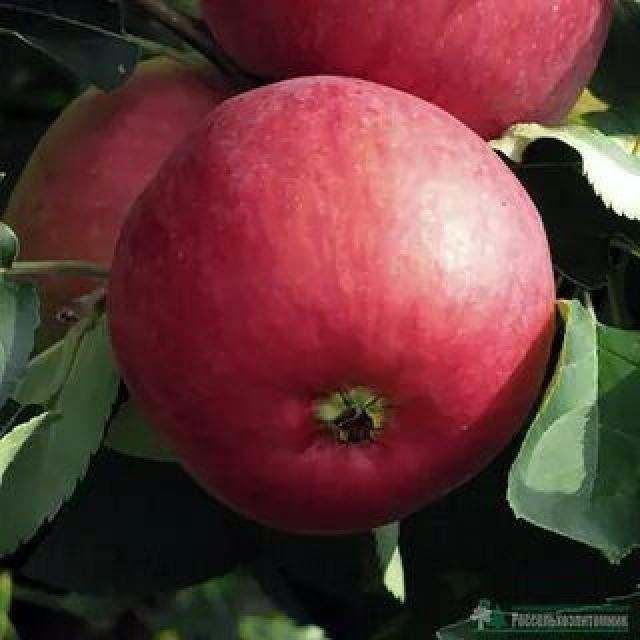Fresh Apple: (111, 75, 562, 535)
